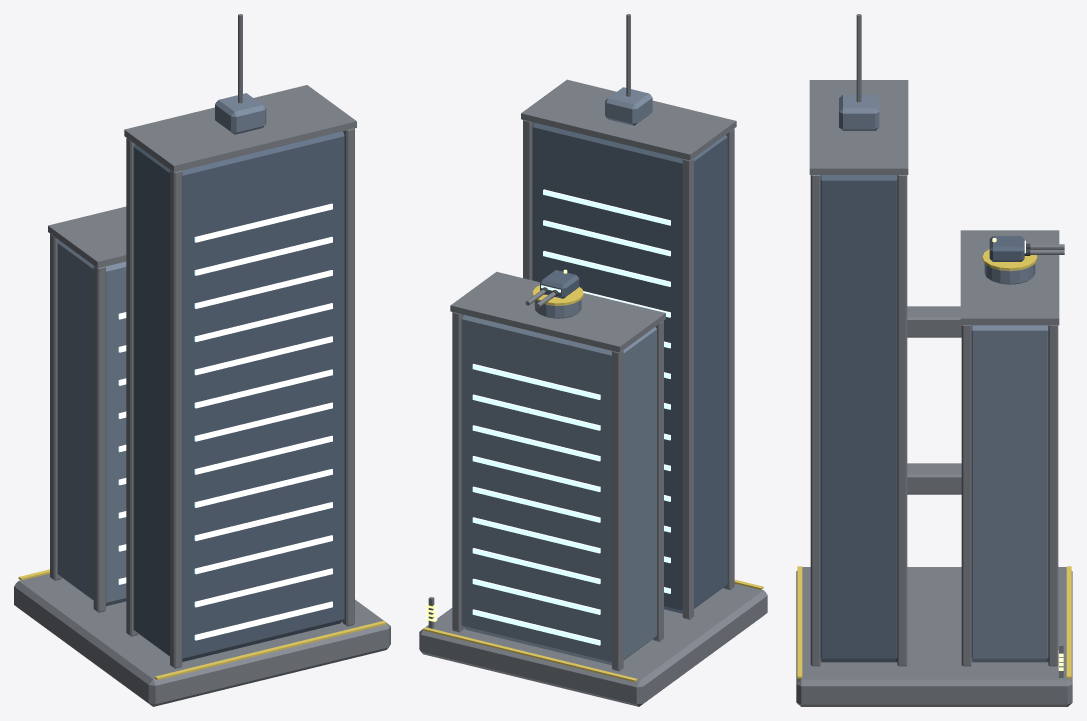
File: zone_high_5_t4.glb
The picture shows the model from 3 angles, left to right: view 1: azimuth 30°, elevation 25°; view 2: azimuth 150°, elevation 25°; view 3: azimuth 270°, elevation 25°; orthographic projection. The views are drawn at different scales.
Visible parts, largest first — view 1: zone_high_5_t4, detail; view 2: zone_high_5_t4, detail; view 3: zone_high_5_t4, detail.
Boxes of the visible parts, x1,y1,x2,y2 form: zone_high_5_t4: (14,85,390,706); detail: (18,14,386,680); zone_high_5_t4: (419,79,767,706); detail: (423,14,763,681); zone_high_5_t4: (796,80,1072,706); detail: (797,14,1071,678).
Size of the model in its own units: 27.5 by 69.72 by 27.5.
